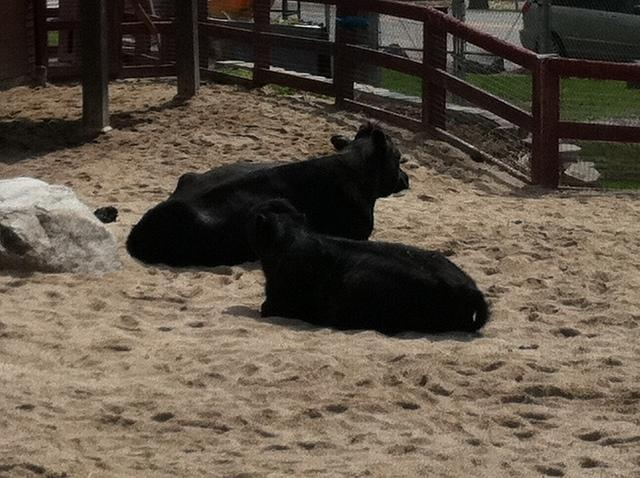car: (516, 0, 640, 63)
